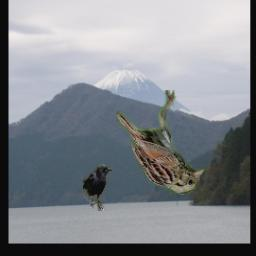Crow: (83, 165, 113, 212)
Sparrow: (115, 91, 205, 196)
